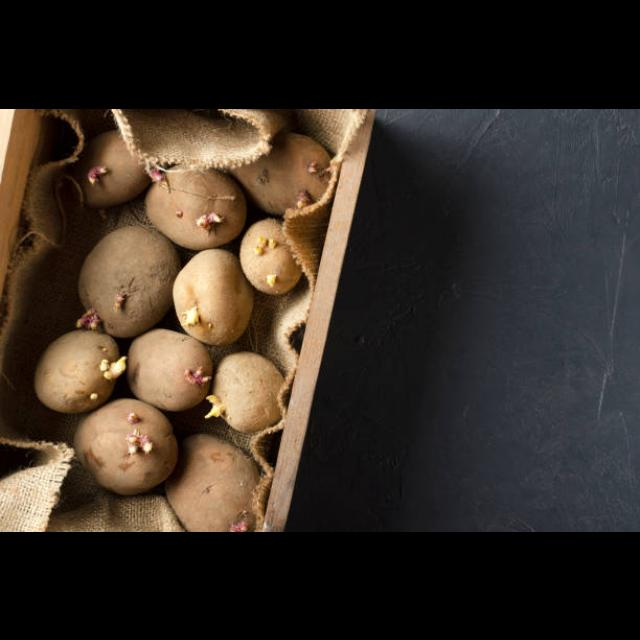Sprouted potato: (75, 214, 188, 338), (160, 428, 288, 530), (73, 388, 185, 496), (138, 153, 250, 249), (27, 318, 125, 420), (167, 245, 256, 348), (123, 324, 221, 416)
